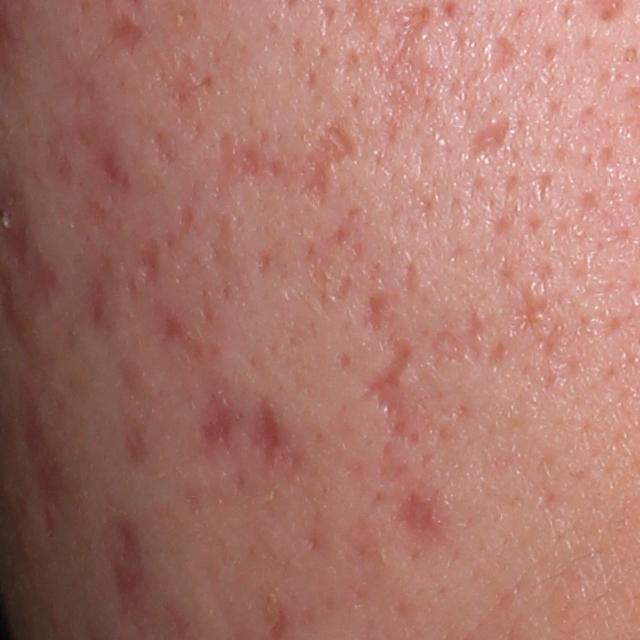atrophic_scar: (368, 1, 442, 146), (302, 205, 369, 309), (364, 332, 424, 447), (288, 118, 362, 211), (22, 400, 65, 534), (110, 510, 155, 621), (4, 217, 56, 312), (209, 131, 277, 202), (426, 309, 488, 372), (391, 488, 445, 548), (465, 111, 515, 166), (245, 397, 281, 471), (483, 31, 522, 84), (109, 10, 145, 58), (199, 406, 234, 450), (150, 126, 181, 170), (360, 291, 389, 336), (135, 242, 161, 286), (319, 3, 341, 43), (101, 147, 121, 187), (178, 200, 195, 237), (402, 261, 419, 294), (487, 340, 507, 368), (256, 247, 275, 276)
